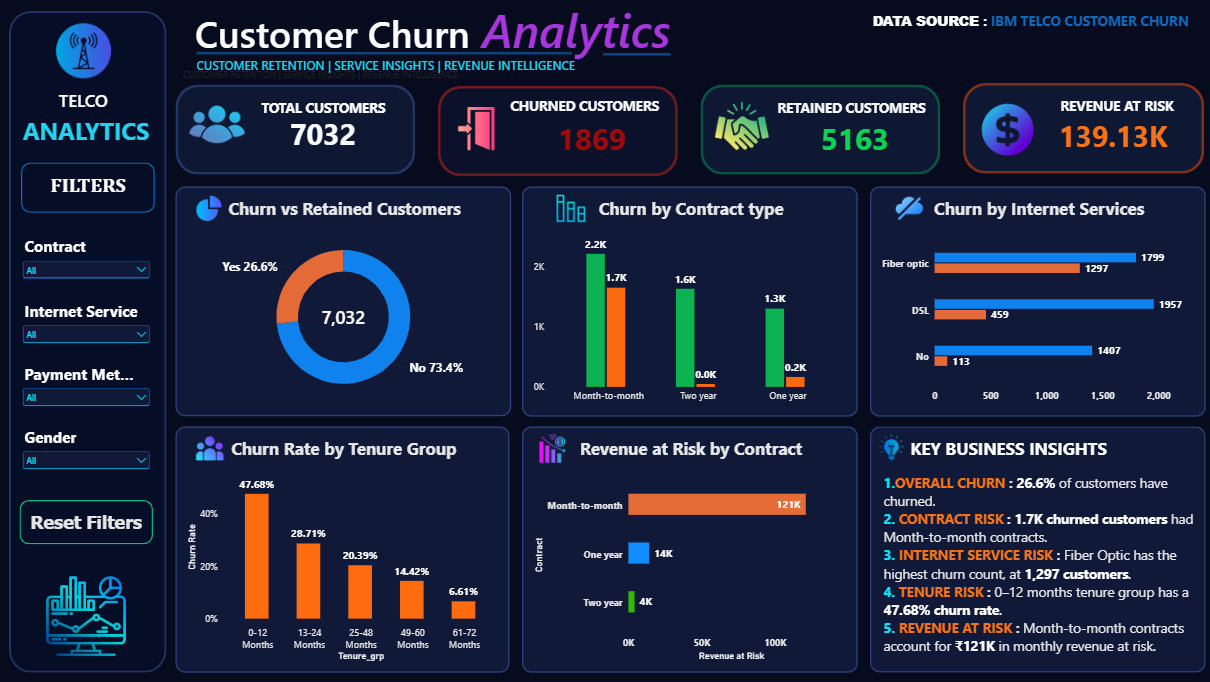

This screenshot's page, from the dashboard's own definition file:
{"tool":"powerbi","page":{"name":"Page 1","canvas":[1920,1080],"ordinal":0},"visuals":[{"type":"group","id":"g1","title":"Group 4","box":[13.6,18.2,248.6,1044.8],"z":0,"group":"g21"},{"type":"shape","box":[13.6,18.2,248.6,1044.8],"z":0,"group":"g1"},{"type":"shape","box":[309.6,44.9,592.7,81],"z":0,"group":"g5"},{"type":"shape","box":[1521.6,131.6,380.8,143.1],"z":0,"group":"g16"},{"type":"shape","box":[277.1,133.7,378.5,142.3],"z":0,"group":"g9"},{"type":"shape","box":[1106.9,134.6,378.5,142.3],"z":0,"group":"g18"},{"type":"shape","box":[690.8,137,378.5,142.3],"z":0,"group":"g11"},{"type":"group","id":"g2","title":"Group 16","box":[824.5,295,530,363.4],"z":0},{"type":"clusteredColumnChart","title":"Churn by Contract type","fields":{"Category":["customer_churn.Contract"],"Series":["customer_churn.Churn"],"Y":["CountNonNull(customer_churn.customerID)"]},"box":[824.5,295,530,363.4],"z":0,"group":"g2"},{"type":"donutChart","title":"Churn vs Retained Customers ","fields":{"Category":["customer_churn.Churn"],"Y":["Count(customer_churn.customerID)"]},"box":[277.1,295.3,530,362.5],"z":0,"group":"g17"},{"type":"clusteredBarChart","title":"Churn by Internet Services","fields":{"Category":["customer_churn.InternetService"],"Series":["customer_churn.Churn"],"Y":["Count(customer_churn.customerID)"]},"box":[1374.1,295.3,530,363.4],"z":0,"group":"g14"},{"type":"columnChart","title":"Churn Rate by Tenure Group","fields":{"Category":["customer_churn.Tenure_grp"],"Y":["customer_churn.Churn Rate"]},"box":[277.1,674.6,527.5,388.4],"z":0,"group":"g6"},{"type":"clusteredBarChart","fields":{"Category":["customer_churn.Contract"],"Y":["customer_churn.Revenue at Risk"]},"box":[824.5,674.6,530,388.4],"z":0,"group":"g10"},{"type":"shape","box":[1374.1,674.6,530,388.4],"z":0,"group":"g19"},{"type":"shape","box":[951,51.9,106.8,70.4],"z":1000,"group":"g5"},{"type":"textbox","box":[288.5,109,590.5,50],"z":1000},{"type":"textbox","box":[1625.5,153.1,277.7,45.3],"z":1000,"group":"g16"},{"type":"image","box":[287,153.6,112.5,87.8],"z":1000,"group":"g20"},{"type":"image","box":[1123.8,156,97.1,87.8],"z":1000,"group":"g18"},{"type":"image","box":[701,164.3,102.2,78.3],"z":1000,"group":"g11"},{"type":"image","box":[862.4,306.4,78.4,45],"z":1000,"group":"g2"},{"type":"image","box":[1394.8,306.7,81.2,45],"z":1000,"group":"g14"},{"type":"image","box":[824.5,686,95.8,45.4],"z":1000,"group":"g10"},{"type":"image","box":[274.6,686.9,113.2,45.4],"z":1000,"group":"g6"},{"type":"textbox","box":[308.2,0,783.6,109],"z":2000,"group":"g8"},{"type":"group","id":"g3","title":"Group 3","box":[31,35.8,210,198.5],"z":2000,"group":"g15"},{"type":"textbox","box":[304.4,113.6,574.6,50],"z":2000},{"type":"group","id":"g4","title":"Group 1","box":[31,142.7,210,91.6],"z":2000,"group":"g3"},{"type":"textbox","box":[396.4,155,230,45.1],"z":2000,"group":"g20"},{"type":"cardVisual","fields":{"Data":["customer_churn.Revenue at Risk"]},"box":[1656.3,165,216,97.8],"z":2000,"group":"g16"},{"type":"cardVisual","fields":{"Data":["customer_churn.Churned Customers"]},"box":[832.4,165.5,201.9,106.8],"z":2000,"group":"g11"},{"type":"cardVisual","fields":{"Data":["customer_churn.Retained Customers"]},"box":[1257.7,172.6,184,92.6],"z":2000,"group":"g18"},{"type":"image","box":[50.3,35.8,164.7,92.4],"z":3000,"group":"g3"},{"type":"group","id":"g5","title":"Group 5","box":[309.6,44.9,748.1,81],"z":3000,"group":"g8"},{"type":"textbox","box":[785.4,152.4,273.5,45.1],"z":3000,"group":"g11"},{"type":"textbox","box":[1213.2,156,263.3,42.7],"z":3000,"group":"g18"},{"type":"image","box":[1540.6,162.6,102.9,85.9],"z":3000,"group":"g16"},{"type":"cardVisual","fields":{"Data":["customer_churn.Total Customers"]},"box":[399.5,175,224.9,73.6],"z":3000,"group":"g20"},{"type":"textbox","box":[31,182,210,52.3],"z":3000,"group":"g4"},{"type":"group","id":"g6","title":"Group 17","box":[274.6,674.6,530,388.4],"z":3000},{"type":"textbox","box":[50.4,142.7,163.5,54.5],"z":3501,"group":"g4"},{"type":"group","id":"g7","title":"Group 14","box":[277.1,0,1626,279.4],"z":4000},{"type":"group","id":"g8","title":"Group 6","box":[308.2,0,783.6,155.3],"z":4000,"group":"g7"},{"type":"group","id":"g9","title":"Group 7","box":[277.1,133.7,378.5,142.3],"z":5000,"group":"g12"},{"type":"group","id":"g10","title":"Group 18","box":[824.5,674.6,529.2,388.4],"z":5000},{"type":"textbox","box":[309.6,92.2,634.3,63.1],"z":5001,"group":"g8"},{"type":"group","id":"g11","title":"Group 11","box":[690.8,137,378.5,142.3],"z":5021,"group":"g13"},{"type":"group","id":"g12","title":"Group 13","box":[277.1,131.6,1626,147.7],"z":6000,"group":"g7"},{"type":"group","id":"g13","title":"Group 8","box":[690.8,137,378.5,142.3],"z":6000,"group":"g12"},{"type":"group","id":"g14","title":"Group 19","box":[1374.1,295.3,529.2,363.4],"z":6000},{"type":"image","box":[286.2,306.7,86.3,45.4],"z":6000,"group":"g17"},{"type":"group","id":"g15","title":"Group 15","box":[31,35.8,210,198.5],"z":6002,"group":"g1"},{"type":"group","id":"g16","title":"Group 9","box":[1521.6,131.6,381.6,143.1],"z":7000,"group":"g12"},{"type":"group","id":"g17","title":"Group 20","box":[277.1,295.3,530,362.5],"z":7000},{"type":"group","id":"g18","title":"Group 10","box":[1106.9,134.6,378.5,142.3],"z":8000,"group":"g12"},{"type":"group","id":"g19","title":"Group 21","box":[1374.1,674.6,530,388.4],"z":8000},{"type":"group","id":"g20","title":"Group 12","box":[287,153.6,339.4,94.9],"z":8001,"group":"g9"},{"type":"textbox","box":[1394.6,749.5,504,295.3],"z":9000},{"type":"shape","box":[40,179.4,182,95.4],"z":10000},{"type":"textbox","box":[1438.5,691.7,437.8,57],"z":10000,"group":"g19"},{"type":"group","id":"g21","title":"Group 2","box":[13.6,18.2,248.6,1044.8],"z":11000},{"type":"image","box":[1378.4,685.6,57.8,42],"z":11000,"group":"g19"},{"type":"shape","box":[32.6,256.3,211.2,79.5],"z":11500,"group":"g21"},{"type":"slicer","fields":{"Values":["customer_churn.Contract"]},"box":[30,375,210,70.4],"z":12000},{"type":"textbox","box":[46,275,184,59.1],"z":12500,"group":"g21"},{"type":"slicer","fields":{"Values":["customer_churn.PaymentMethod"]},"box":[30,575,210,70],"z":13000},{"type":"slicer","fields":{"Values":["customer_churn.gender"]},"box":[30,675,210,70],"z":14000},{"type":"slicer","fields":{"Values":["customer_churn.InternetService"]},"box":[30,475,210,70],"z":15000},{"type":"actionButton","box":[30,790,210.9,70],"z":16000},{"type":"image","box":[30,910,210,130],"z":17000},{"type":"textbox","box":[1354.8,18.9,544.7,90],"z":18000}]}

Visuals, with their boxes in screenshot pixels (x1, y1, x2, y2), scaled from the page's 1920x1080 canvas onto the 1210x682 screenshot:
"Group 4" group: 9 11 165 671
shape: 9 11 165 671
shape: 195 28 569 80
shape: 959 83 1199 173
shape: 175 84 413 174
shape: 698 85 936 175
shape: 435 87 674 176
"Group 16" group: 520 186 854 416
"Churn by Contract type" clusteredColumnChart: 520 186 854 416
"Churn vs Retained Customers " donutChart: 175 186 509 415
"Churn by Internet Services" clusteredBarChart: 866 186 1200 416
"Churn Rate by Tenure Group" columnChart: 175 426 507 671
clusteredBarChart - customer_churn.Contract x customer_churn.Revenue at Risk: 520 426 854 671
shape: 866 426 1200 671
shape: 599 33 667 77
textbox: 182 69 554 100
textbox: 1024 97 1199 125
image: 181 97 252 152
image: 708 99 769 154
image: 442 104 506 153
image: 543 193 593 222
image: 879 194 930 222
image: 520 433 580 462
image: 173 434 244 462
textbox: 194 0 688 69
"Group 3" group: 20 23 152 148
textbox: 192 72 554 103
"Group 1" group: 20 90 152 148
textbox: 250 98 395 126
cardVisual - customer_churn.Revenue at Risk: 1044 104 1180 166
cardVisual - customer_churn.Churned Customers: 525 105 652 172
cardVisual - customer_churn.Retained Customers: 793 109 909 167
image: 32 23 135 81
"Group 5" group: 195 28 667 80
textbox: 495 96 667 125
textbox: 765 99 931 125
image: 971 103 1036 157
cardVisual - customer_churn.Total Customers: 252 111 394 157
textbox: 20 115 152 148
"Group 17" group: 173 426 507 671
textbox: 32 90 135 125
"Group 14" group: 175 0 1199 176
"Group 6" group: 194 0 688 98
"Group 7" group: 175 84 413 174
"Group 18" group: 520 426 853 671
textbox: 195 58 595 98
"Group 11" group: 435 87 674 176
"Group 13" group: 175 83 1199 176
"Group 8" group: 435 87 674 176
"Group 19" group: 866 186 1199 416
image: 180 194 235 222
"Group 15" group: 20 23 152 148
"Group 9" group: 959 83 1199 173
"Group 20" group: 175 186 509 415
"Group 10" group: 698 85 936 175
"Group 21" group: 866 426 1200 671
"Group 12" group: 181 97 395 157
textbox: 879 473 1197 660
shape: 25 113 140 174
textbox: 907 437 1182 473
"Group 2" group: 9 11 165 671
image: 869 433 905 459
shape: 21 162 154 212
slicer - customer_churn.Contract: 19 237 151 281
textbox: 29 174 145 211
slicer - customer_churn.PaymentMethod: 19 363 151 407
slicer - customer_churn.gender: 19 426 151 470
slicer - customer_churn.InternetService: 19 300 151 344
actionButton: 19 499 152 543
image: 19 575 151 657
textbox: 854 12 1197 69
